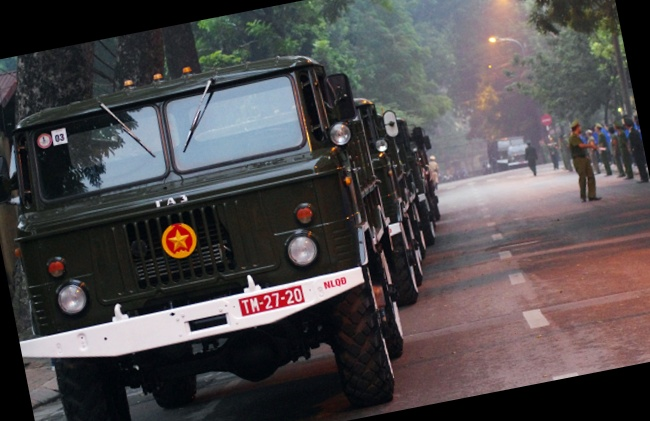plate: (239, 284, 306, 318)
